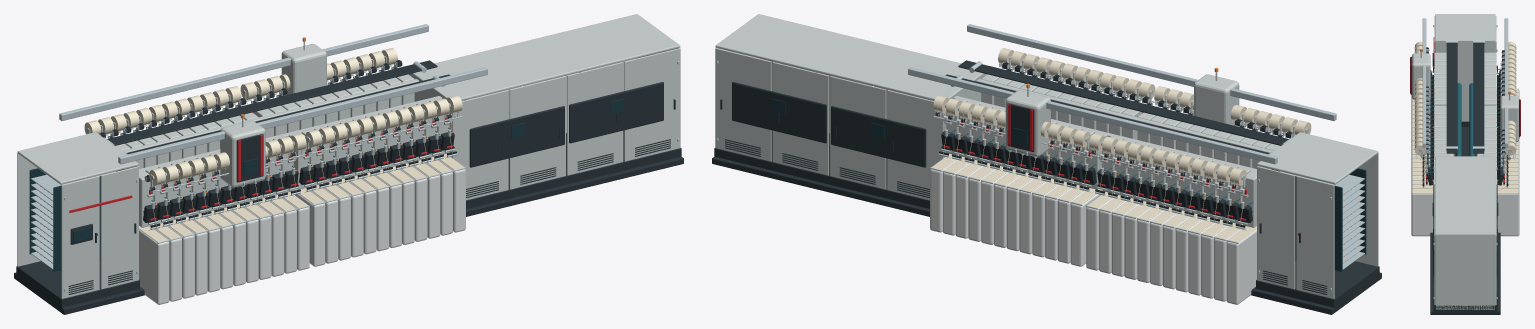
File: saurer_autoairo.glb
3 views of the same model, side by side, from view 1: azimuth 30°, elevation 25°; view 2: azimuth 150°, elevation 25°; view 3: azimuth 270°, elevation 25° (orthographic). The views are drawn at different scales.
Visible parts, largest first — view 1: AA_tail_roof, cabinet_door.001, cabinet_door.007, cabinet_door, waste_chamber_door, waste_chamber_door.002, cabinet_door.006, AA_head_roof, cabinet_door.005, cabinet_door.004, transport_belt.001, doffer_rail.001 (+38 smaller); view 2: AA_tail_roof, cabinet_door.003, cabinet_door.002, cabinet_door.011, waste_chamber_door.001, waste_chamber_door.003, cabinet_door.010, AA_head_roof, cabinet_door.009, cabinet_door.008, transport_belt, doffer_rail (+38 smaller); view 3: AA_tail_roof, AA_tail_end_wall.001, AA_head_roof, AA_head_end_wall, transport_belt, transport_belt.001, foundation, sliver_can.023, sliver_can.047, doffer_rail, doffer_rail.001, robot_shell (+12 smaller).
Boxes of the visible parts, left/top/right/bottom form: AA_tail_roof: left=412, top=14, right=680, bottom=100; cabinet_door.001: left=100, top=166, right=138, bottom=289; cabinet_door.007: left=624, top=48, right=680, bottom=161; cabinet_door: left=61, top=176, right=99, bottom=298; waste_chamber_door: left=469, top=106, right=564, bottom=167; waste_chamber_door.002: left=569, top=82, right=663, bottom=143; cabinet_door.006: left=567, top=62, right=623, bottom=175; AA_head_roof: left=17, top=132, right=138, bottom=184; cabinet_door.005: left=509, top=76, right=565, bottom=189; cabinet_door.004: left=452, top=90, right=508, bottom=200; transport_belt.001: left=107, top=60, right=437, bottom=145; doffer_rail.001: left=59, top=24, right=428, bottom=120; AA_tail_roof: left=715, top=14, right=983, bottom=100; cabinet_door.003: left=1257, top=166, right=1295, bottom=289; cabinet_door.002: left=1296, top=176, right=1334, bottom=298; cabinet_door.011: left=715, top=48, right=771, bottom=161; waste_chamber_door.001: left=831, top=106, right=926, bottom=167; waste_chamber_door.003: left=732, top=82, right=826, bottom=143; cabinet_door.010: left=772, top=62, right=828, bottom=175; AA_head_roof: left=1257, top=132, right=1378, bottom=184; cabinet_door.009: left=830, top=76, right=886, bottom=189; cabinet_door.008: left=887, top=90, right=943, bottom=200; transport_belt: left=958, top=60, right=1288, bottom=145; doffer_rail: left=967, top=24, right=1336, bottom=120; AA_tail_roof: left=1435, top=156, right=1495, bottom=234; AA_tail_end_wall.001: left=1435, top=235, right=1495, bottom=309; AA_head_roof: left=1435, top=14, right=1495, bottom=41; AA_head_end_wall: left=1435, top=41, right=1495, bottom=121; transport_belt: left=1446, top=42, right=1457, bottom=153; transport_belt.001: left=1473, top=42, right=1484, bottom=153; foundation: left=1430, top=127, right=1500, bottom=314; sliver_can.023: left=1411, top=191, right=1433, bottom=236; sliver_can.047: left=1497, top=191, right=1519, bottom=236; doffer_rail: left=1422, top=18, right=1426, bottom=147; doffer_rail.001: left=1504, top=18, right=1508, bottom=147; robot_shell: left=1412, top=53, right=1430, bottom=99.
Bounding box in the file's own units: 11.18 × 2.81 × 2.48.
